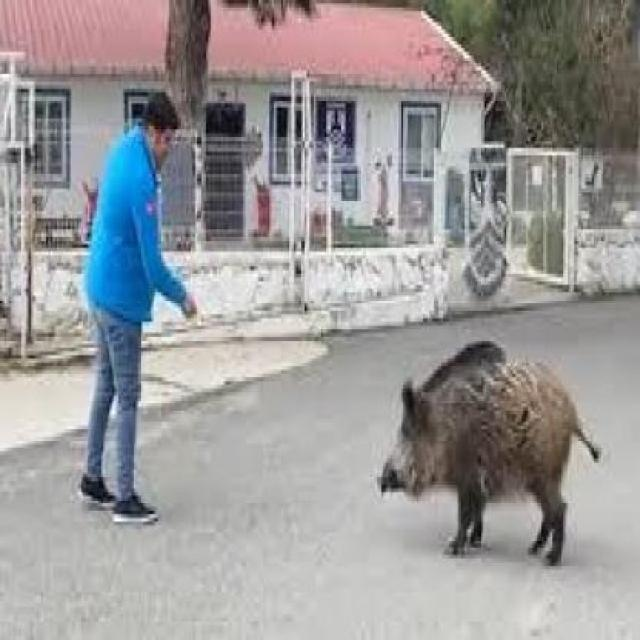wildboar: (371, 332, 607, 588)
